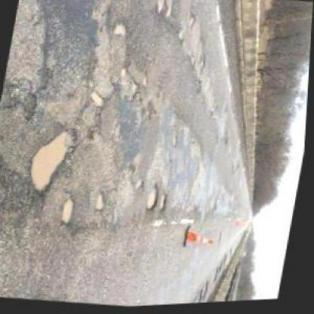Hueco: (27, 125, 81, 200), (0, 83, 41, 126), (190, 46, 209, 94), (61, 198, 78, 228), (146, 186, 162, 214), (87, 90, 107, 111), (110, 22, 129, 42), (95, 192, 109, 214), (155, 0, 168, 19), (130, 83, 141, 105), (160, 195, 172, 214), (172, 135, 183, 153), (186, 16, 197, 32), (165, 2, 174, 21), (119, 68, 130, 83), (176, 30, 185, 46)
